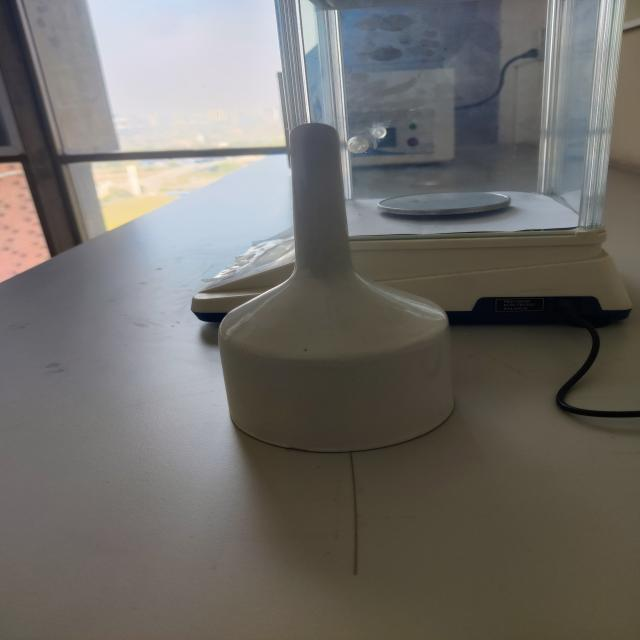Buchner_Funnel: (188, 85, 485, 472)
